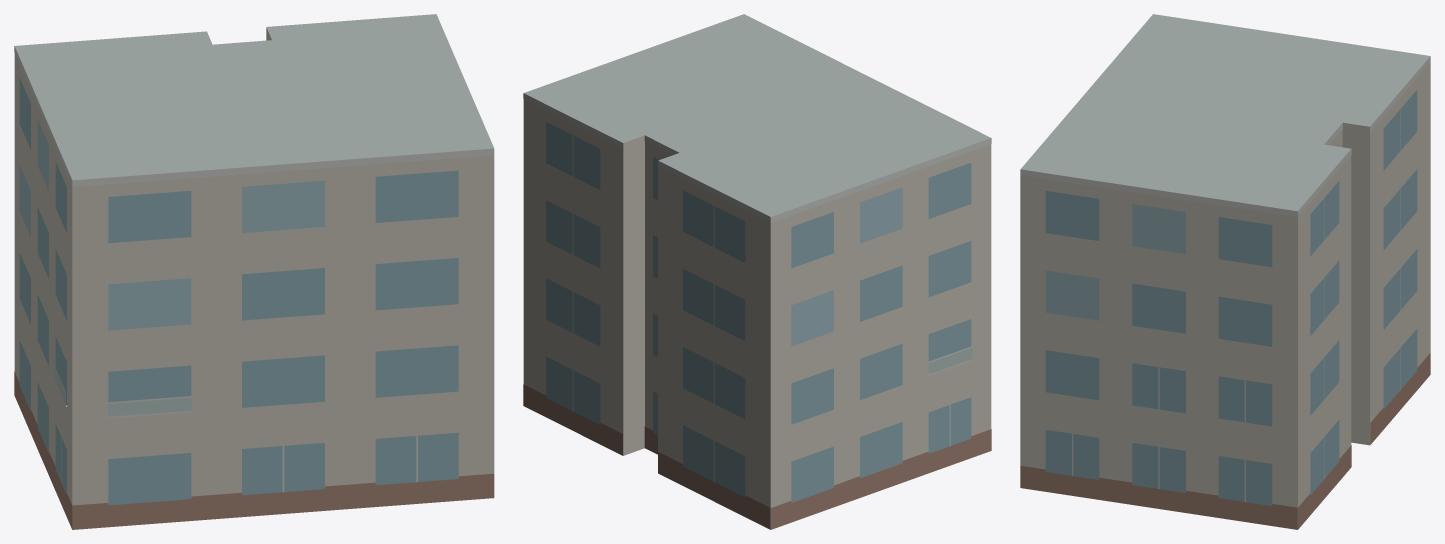
File: survey-upis-32699846.glb
The picture shows the model from 3 angles, left to right: view 1: azimuth 30°, elevation 25°; view 2: azimuth 150°, elevation 25°; view 3: azimuth 270°, elevation 25°; orthographic projection. The views are drawn at different scales.
Parts seen in each view (by area): view 1: survey-upis-32699846.tmp; view 2: survey-upis-32699846.tmp; view 3: survey-upis-32699846.tmp.
Boxes of the visible parts, x1,y1,x2,y2 form: survey-upis-32699846.tmp: (14, 14, 494, 529); survey-upis-32699846.tmp: (523, 14, 991, 529); survey-upis-32699846.tmp: (1020, 14, 1430, 529).
Size of the model in its own units: 16.98 by 12.78 by 14.92.
